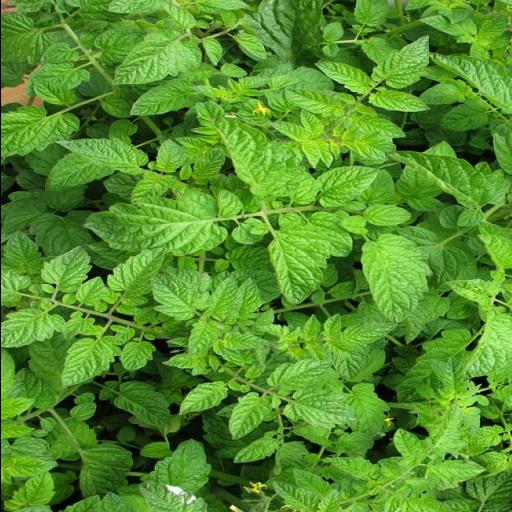Healthy: (80, 188, 226, 258), (208, 117, 304, 197), (387, 152, 511, 208), (358, 236, 433, 322), (266, 221, 332, 305), (428, 51, 512, 115), (110, 28, 202, 86), (52, 138, 148, 174), (106, 244, 168, 298), (282, 388, 364, 428), (370, 34, 430, 88), (57, 338, 120, 388), (148, 272, 210, 321), (42, 153, 114, 195), (128, 79, 203, 117), (113, 380, 172, 427), (316, 166, 380, 208), (0, 308, 64, 350), (38, 245, 92, 293), (306, 210, 352, 258), (228, 393, 274, 441), (312, 62, 376, 96), (265, 358, 333, 390), (434, 98, 494, 132), (282, 88, 346, 118), (224, 276, 262, 326), (6, 471, 56, 507), (422, 458, 486, 486), (178, 382, 230, 414), (435, 357, 472, 400), (207, 274, 240, 322), (347, 114, 407, 140), (189, 146, 228, 186), (340, 322, 400, 346), (366, 90, 430, 112), (186, 320, 224, 356), (151, 138, 187, 174), (329, 456, 380, 481), (32, 80, 80, 106), (232, 438, 280, 464), (292, 468, 332, 498), (390, 429, 426, 460), (362, 204, 411, 226), (6, 458, 58, 478), (74, 275, 107, 306), (120, 342, 156, 370), (36, 42, 78, 64), (222, 330, 268, 350), (60, 318, 96, 340), (202, 38, 222, 66), (68, 402, 96, 420)
